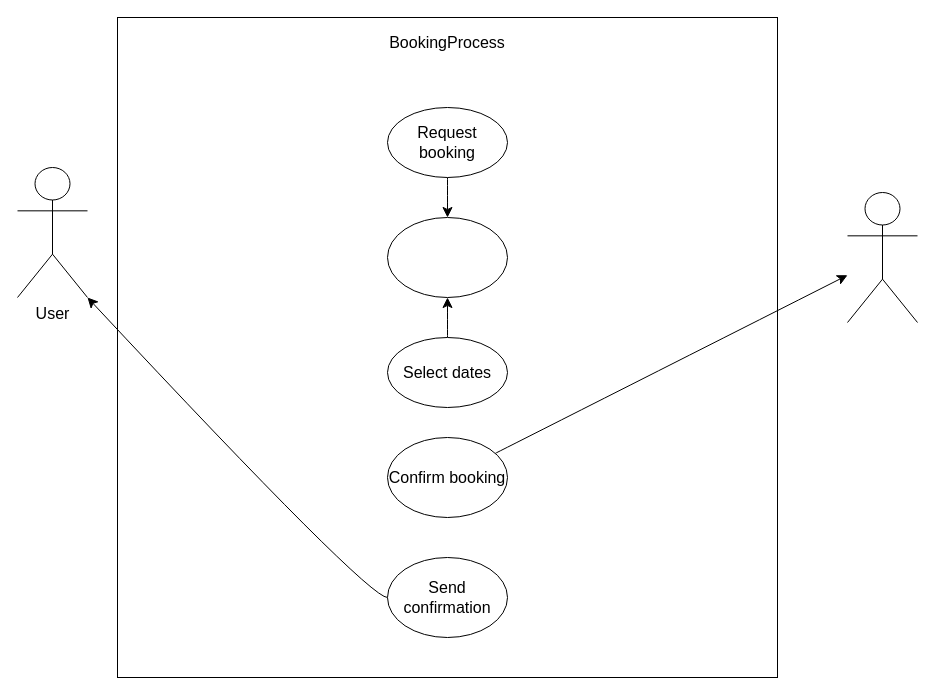
The diagram is 935 pixels wide and 695 high, and some of its shapes have lost their labels. The shapes that lost their labels are listed below. From the top down, each one's centre as x and y in pixels, then its label:
pixel 447 257: Check availability
pixel 882 257: Customer
